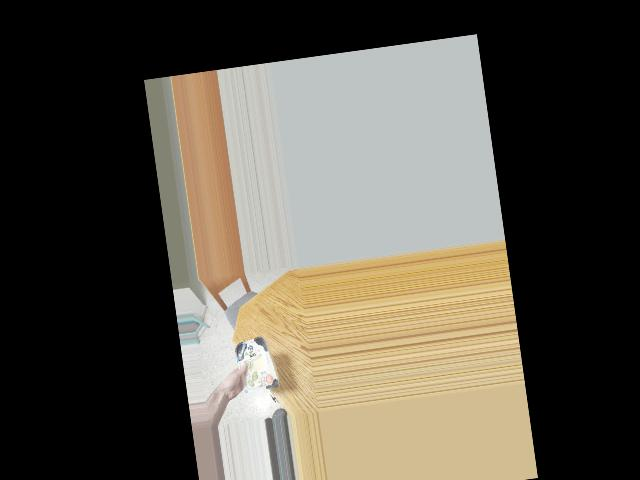cheese: (235, 336, 272, 389)
